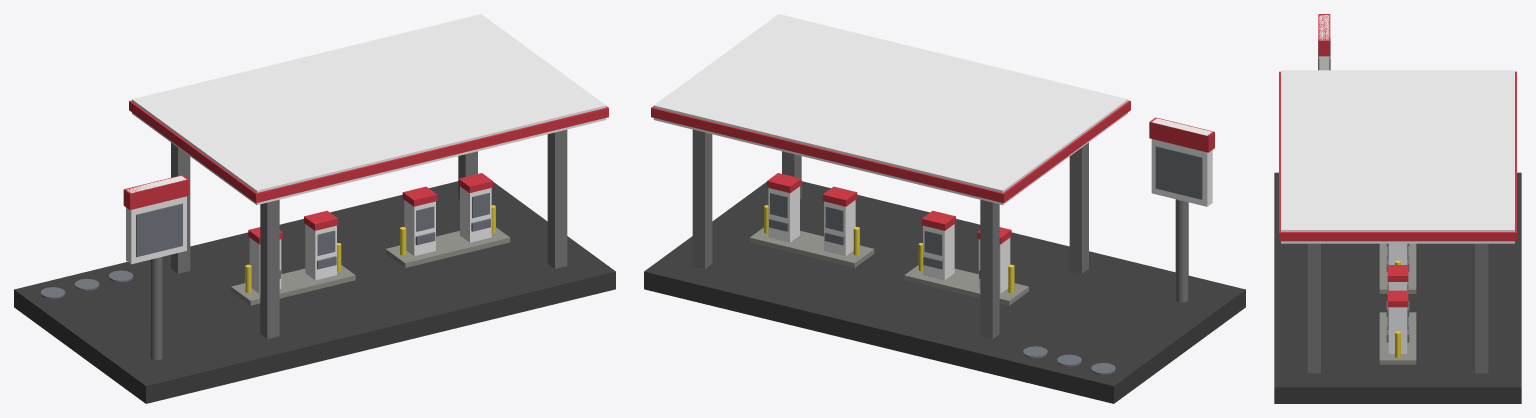
The model's file is mashup-main-mid-prebuilt.fbx.
The picture shows the model from 3 angles, left to right: view 1: azimuth 30°, elevation 25°; view 2: azimuth 150°, elevation 25°; view 3: azimuth 270°, elevation 25°; orthographic projection. The views are drawn at different scales.
Parts seen in each view (by area): view 1: a1019.Main; view 2: a1019.Main; view 3: a1019.Main.
Part boxes in pixels (x1,y1,x2,y2): a1019.Main: (14,14,615,403); a1019.Main: (644,14,1245,403); a1019.Main: (1274,14,1521,403).
Size of the model in its own units: 15.2 by 5.9 by 7.4.
